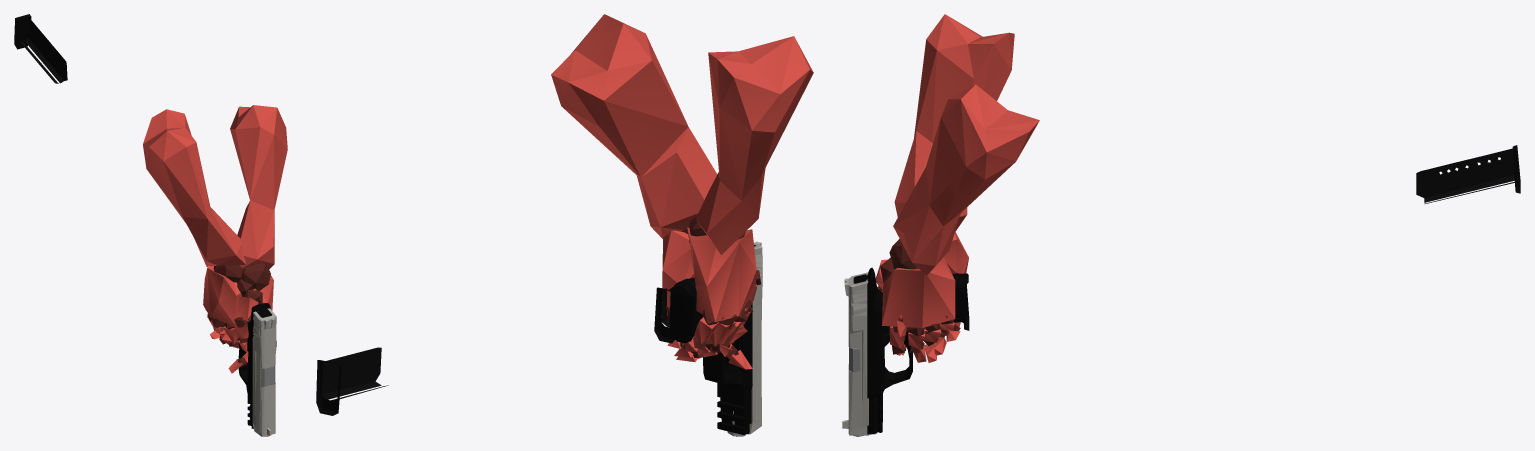
Rendered from M&P9reloadNormal1lowP_000155.obj.
3 views of the same model, side by side, from view 1: azimuth 30°, elevation 25°; view 2: azimuth 150°, elevation 25°; view 3: azimuth 270°, elevation 25° (orthographic). The views are drawn at different scales.
Parts seen in each view (by area): view 1: Beta_Surface.001_Beta_Surface.002, slide_平面.002, Beta_Joints.001_Beta_Joints.002, magazine_平面.003, triger_平面.001; view 2: Beta_Surface.001_Beta_Surface.002, triger_平面.001, magazine_平面.003, slide_平面.002, Beta_Joints.001_Beta_Joints.002, magazine.002_平面.005; view 3: Beta_Surface.001_Beta_Surface.002, triger_平面.001, magazine_平面.003, slide_平面.002, Beta_Joints.001_Beta_Joints.002.
Part boxes in pixels (x1,y1,x2,y2): Beta_Surface.001_Beta_Surface.002: (143,105,287,373); slide_平面.002: (252,308,276,436); Beta_Joints.001_Beta_Joints.002: (205,263,270,366); magazine_平面.003: (14,14,67,83); triger_平面.001: (238,303,275,436); Beta_Surface.001_Beta_Surface.002: (551,14,813,369); triger_平面.001: (669,277,752,436); magazine_平面.003: (316,347,388,415); slide_平面.002: (727,241,762,436); Beta_Joints.001_Beta_Joints.002: (667,216,760,361); magazine.002_平面.005: (654,287,678,343); Beta_Surface.001_Beta_Surface.002: (875,14,1039,362); triger_平面.001: (849,267,968,436); magazine_平面.003: (1416,145,1520,204); slide_平面.002: (842,272,877,435); Beta_Joints.001_Beta_Joints.002: (878,239,960,354).
Bounding box in the file's own units: 42.47 × 80.1 × 130.
